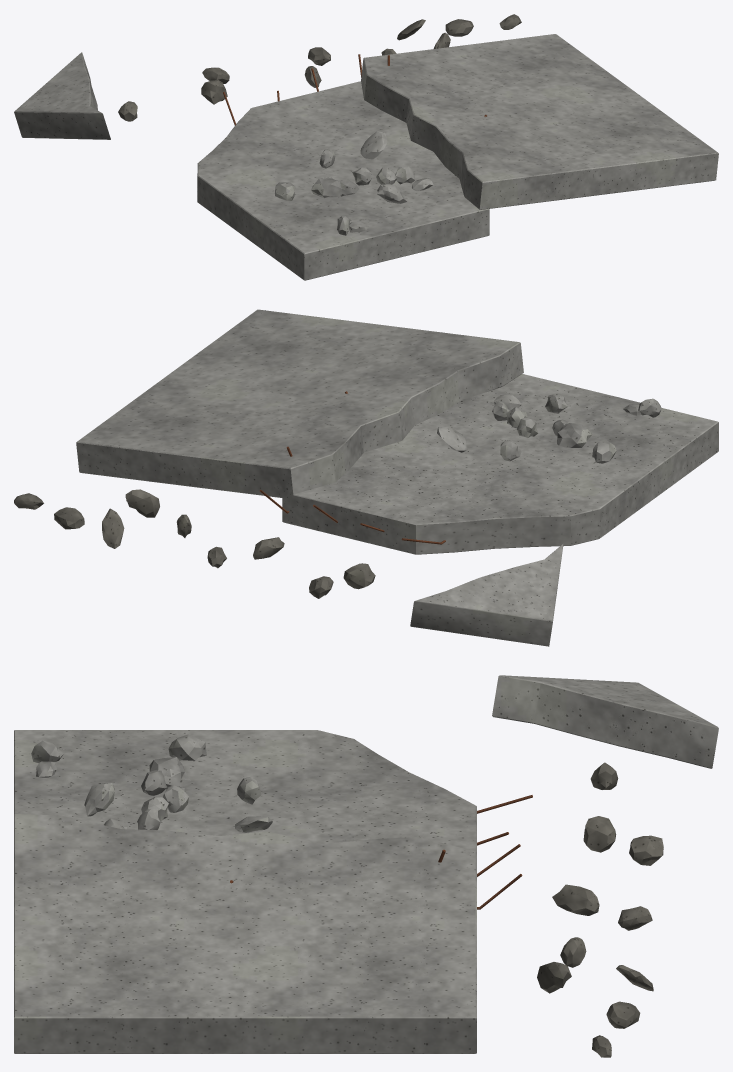
Rendered from broken-concrete-slab.glb.
The picture shows the model from 3 angles, top to bottom: view 1: azimuth 30°, elevation 25°; view 2: azimuth 150°, elevation 25°; view 3: azimuth 270°, elevation 25°; orthographic projection. The views are drawn at different scales.
Parts seen in each view (by area): view 1: Broken_Concrete_Slab; view 2: Broken_Concrete_Slab; view 3: Broken_Concrete_Slab.
Part boxes in pixels (<box>): Broken_Concrete_Slab: <box>14,14,718,280</box>; Broken_Concrete_Slab: <box>14,309,718,646</box>; Broken_Concrete_Slab: <box>14,675,718,1057</box>.
Size of the model in its own units: 2.81 by 0.3138 by 2.44.
Materials: 3 (3 with a texture image).
